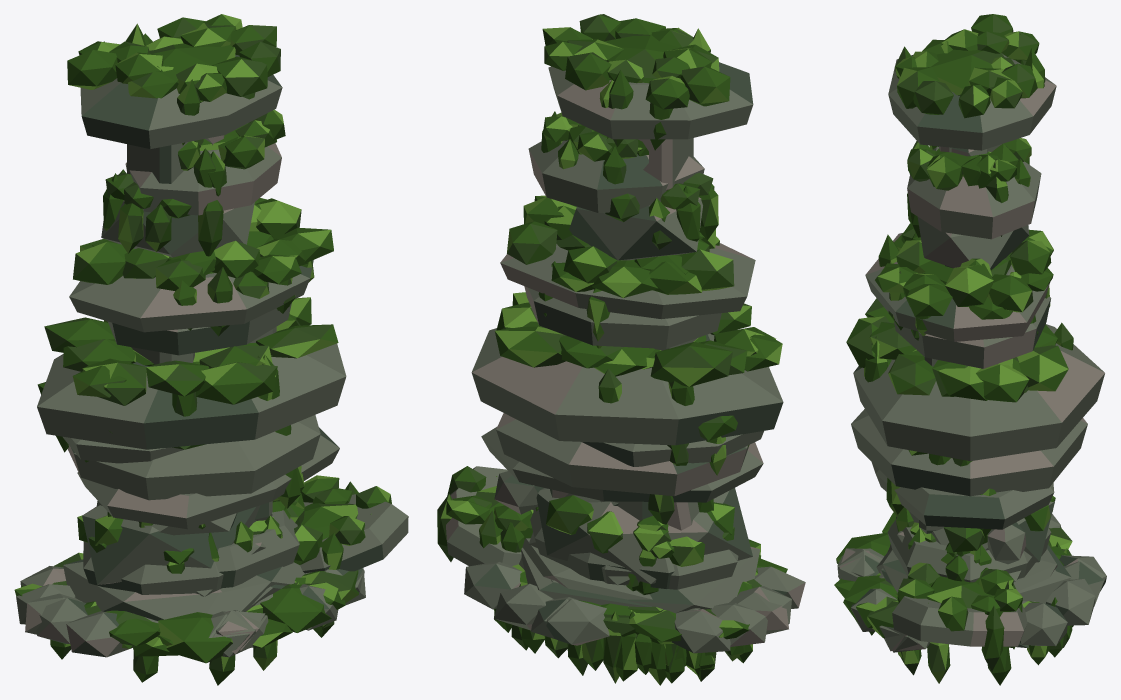
File: forest-stones.glb
3 renders of one model, left to right at view 1: azimuth 30°, elevation 25°; view 2: azimuth 150°, elevation 25°; view 3: azimuth 270°, elevation 25°, orthographic. The views are drawn at different scales.
Parts seen in each view (by area): view 1: TallStack, SquatLantern, LayeredPagoda, BrokenLantern, LowCairn; view 2: TallStack, SquatLantern, LayeredPagoda, BrokenLantern, LowCairn; view 3: TallStack, SquatLantern, LayeredPagoda, BrokenLantern, LowCairn.
Boxes of the visible parts, x1=… form: TallStack: x1=22, y1=14, x2=345, y2=685; SquatLantern: x1=25, y1=297, x2=346, y2=657; LayeredPagoda: x1=63, y1=109, x2=364, y2=682; BrokenLantern: x1=14, y1=382, x2=408, y2=670; LowCairn: x1=16, y1=498, x2=331, y2=659; TallStack: x1=464, y1=14, x2=791, y2=675; SquatLantern: x1=471, y1=292, x2=788, y2=675; LayeredPagoda: x1=496, y1=111, x2=761, y2=681; BrokenLantern: x1=437, y1=415, x2=763, y2=683; LowCairn: x1=521, y1=495, x2=805, y2=685; TallStack: x1=834, y1=14, x2=1095, y2=665; SquatLantern: x1=837, y1=298, x2=1106, y2=683; LayeredPagoda: x1=838, y1=138, x2=1104, y2=675; BrokenLantern: x1=851, y1=513, x2=1073, y2=685; LowCairn: x1=837, y1=505, x2=1072, y2=658.
Size of the model in its own units: 2.19 by 3.6 by 1.53.
Materials: 1 (1 with a texture image).
